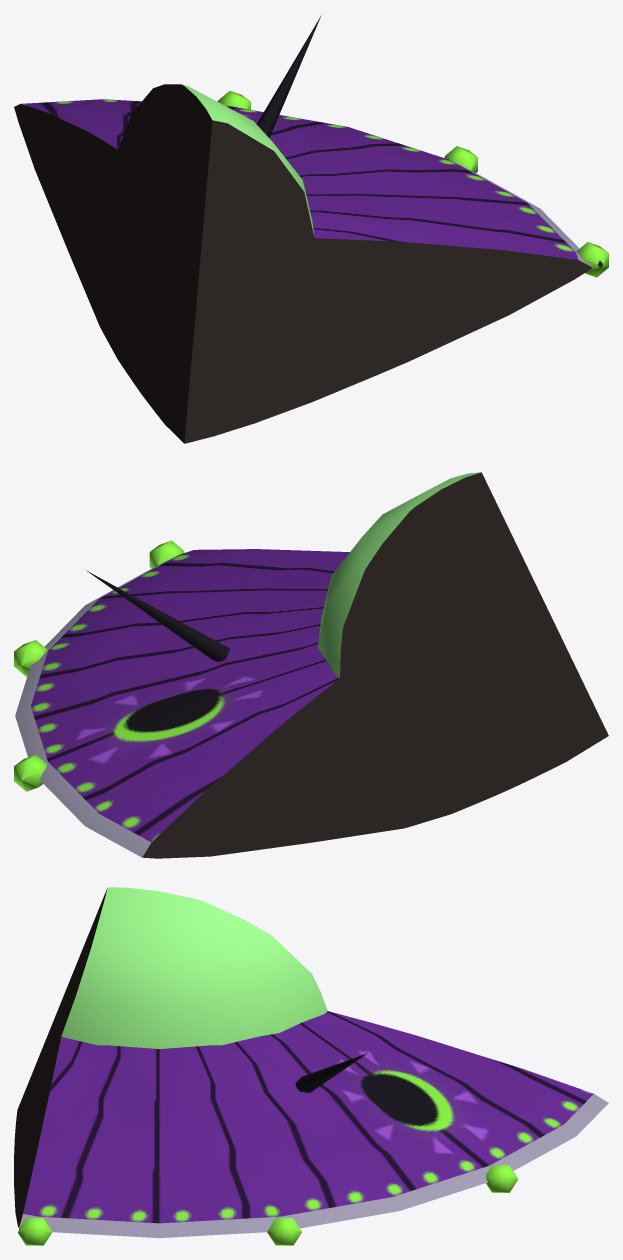
The model's file is scout_saucer_debris2.obj.
3 views of the same model, one above another, from view 1: azimuth 30°, elevation 25°; view 2: azimuth 150°, elevation 25°; view 3: azimuth 270°, elevation 25° (orthographic). The views are drawn at different scales.
Parts seen in each view (by area): view 1: disc, dome, rim_light, spike; view 2: disc, dome, rim_light, spike; view 3: disc, dome, rim_light, spike.
Part boxes in pixels (x1,y1,x2,y2): disc: [14, 99, 592, 443]; dome: [117, 84, 315, 266]; rim_light: [217, 91, 608, 277]; spike: [256, 15, 321, 137]; disc: [15, 549, 608, 858]; dome: [317, 472, 538, 681]; rim_light: [14, 540, 184, 791]; spike: [86, 570, 229, 661]; disc: [14, 986, 608, 1238]; dome: [60, 887, 327, 1048]; rim_light: [18, 1165, 518, 1245]; spike: [295, 1053, 367, 1092].
Size of the model in its own units: 5.91 by 3.67 by 7.42.
6 materials, 1 textured.
